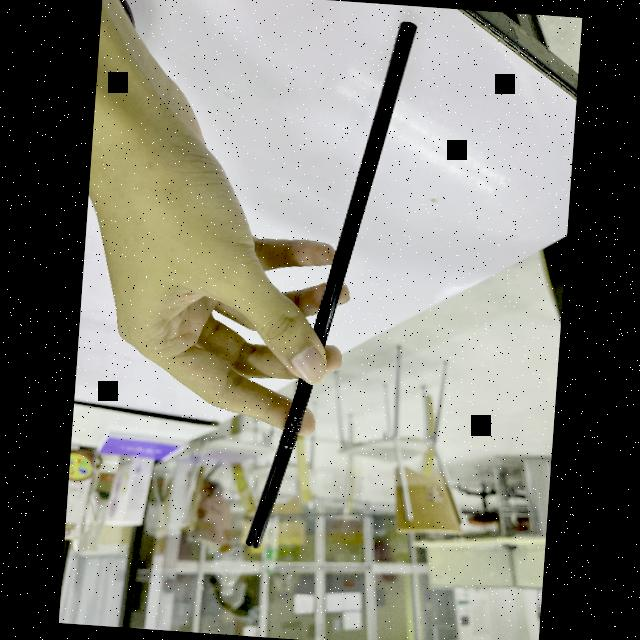straw: (244, 11, 423, 559)
